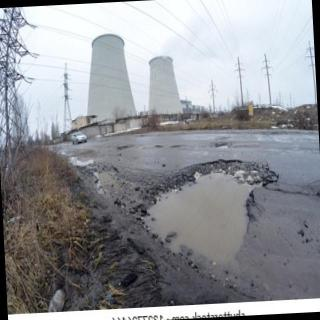pothole: (142, 160, 280, 266)
